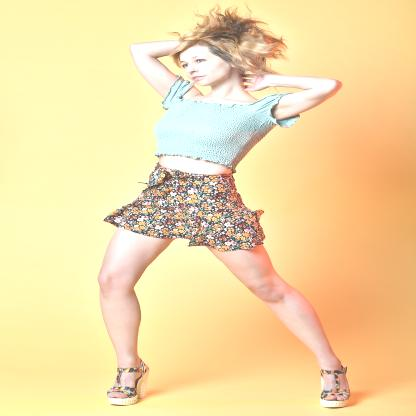jacket: (92, 159, 281, 260)
